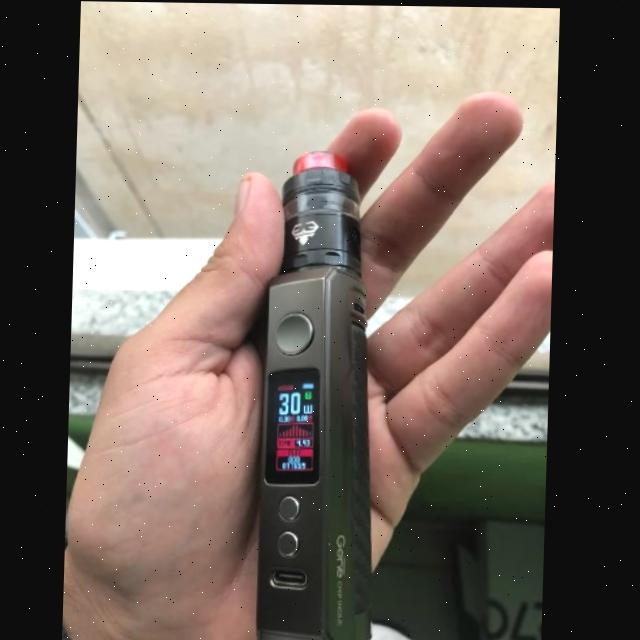vape: (257, 148, 387, 640)
